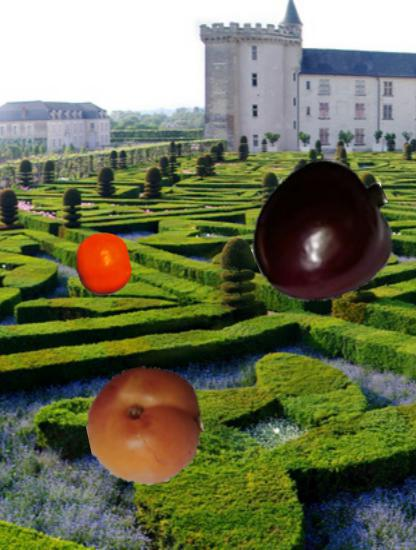Apricot: (87, 367, 205, 485)
Cherry: (249, 158, 395, 304)
Clementine: (72, 233, 136, 297)
